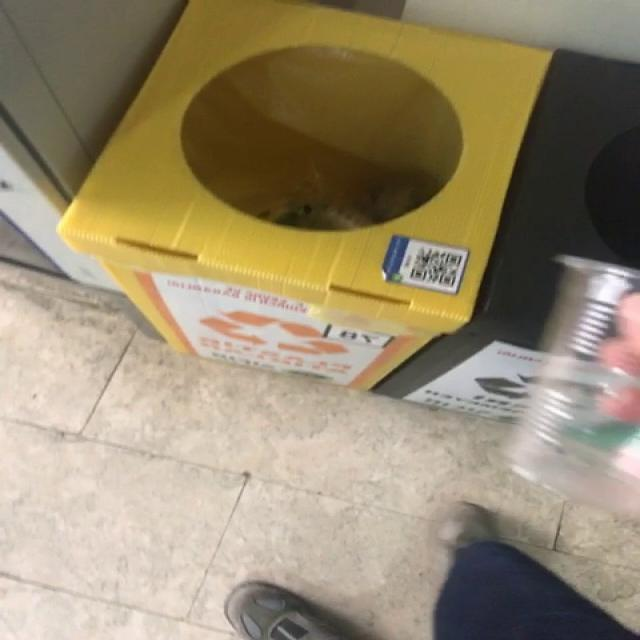Plastic: (509, 256, 640, 514)
